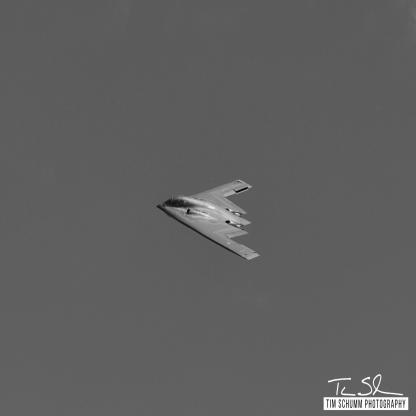B2: (157, 180, 262, 262)
